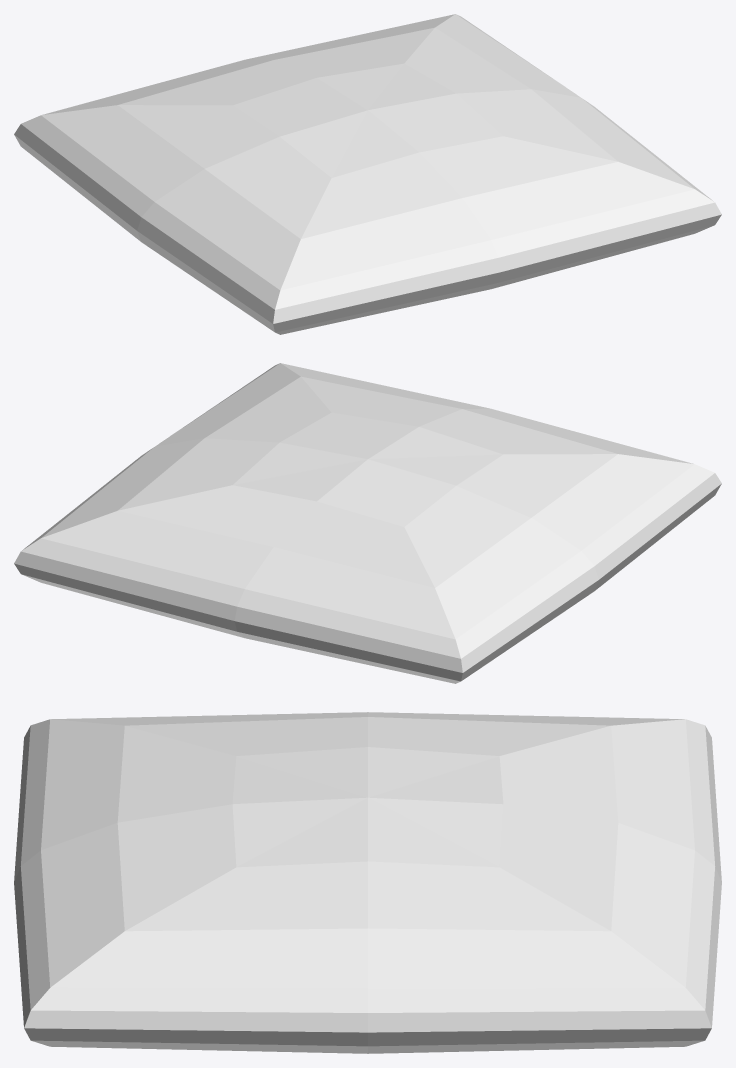
Rendered from bedpillow01.gltf.
3 views of the same model, one above another, from view 1: azimuth 30°, elevation 25°; view 2: azimuth 150°, elevation 25°; view 3: azimuth 270°, elevation 25° (orthographic). The views are drawn at different scales.
Visible parts, largest first — view 1: Sphere; view 2: Sphere; view 3: Sphere.
Part boxes in pixels (<box>): Sphere: <box>14,14,721,334</box>; Sphere: <box>14,363,721,683</box>; Sphere: <box>14,712,721,1053</box>.
Size of the model in its own units: 0.4386 by 0.0979 by 0.4386.
Materials: 1 (1 with a texture image).
